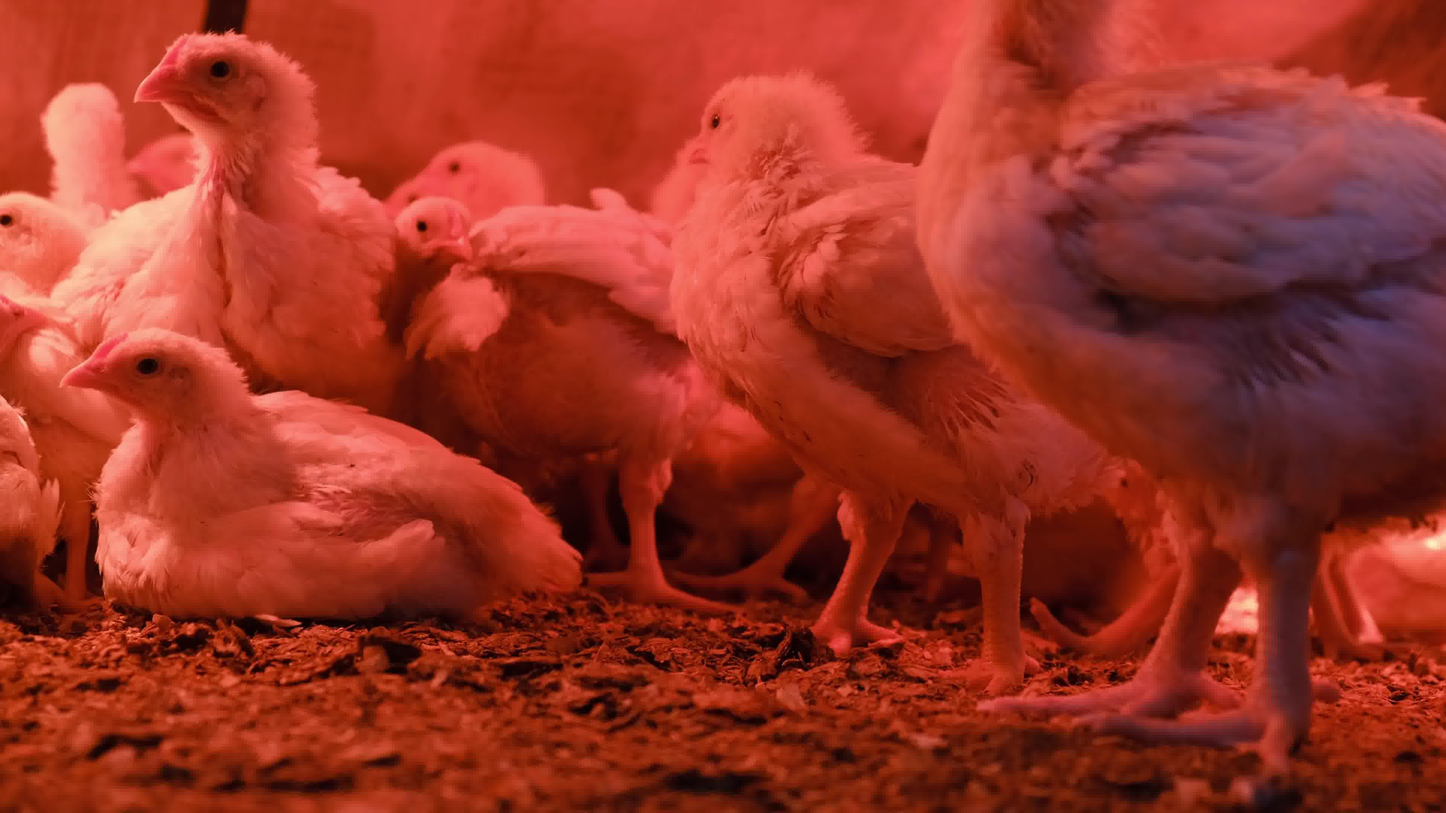AbNormal: (43, 288, 591, 621), (0, 235, 88, 629)
Normal: (938, 0, 1437, 787), (674, 64, 1122, 694), (452, 149, 723, 598), (104, 24, 441, 331), (397, 98, 563, 248), (375, 171, 490, 361), (77, 96, 217, 239), (19, 53, 139, 198), (2, 139, 107, 282)
